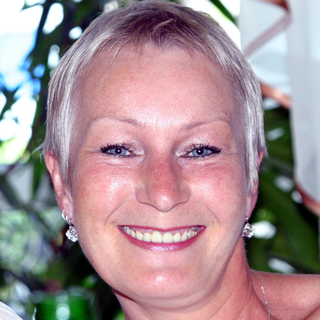eye: (174, 140, 226, 163), (96, 138, 140, 162)
